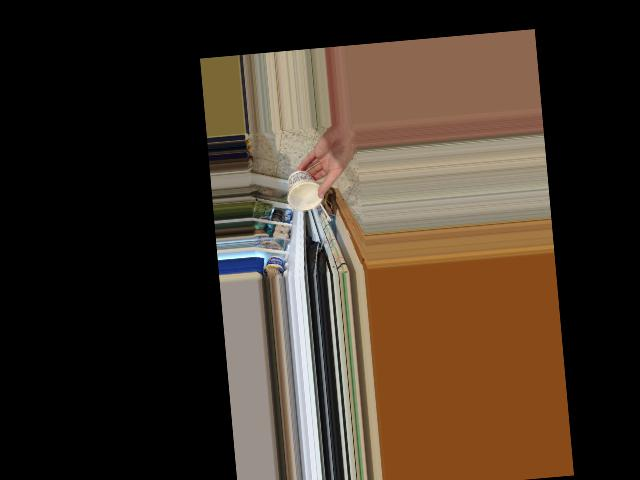cotage: (287, 168, 323, 209)
